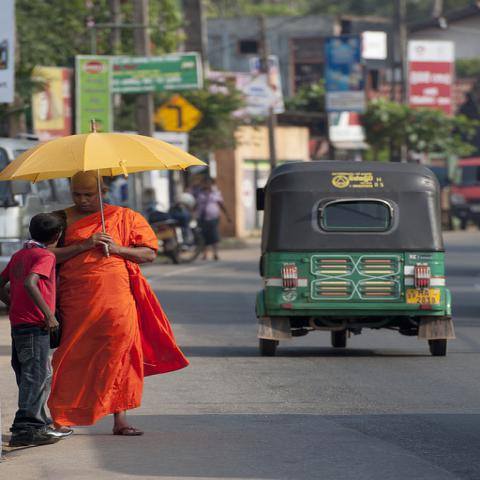car: (0, 138, 72, 268)
motorcycle: (137, 203, 206, 262)
truck: (449, 156, 479, 204)
